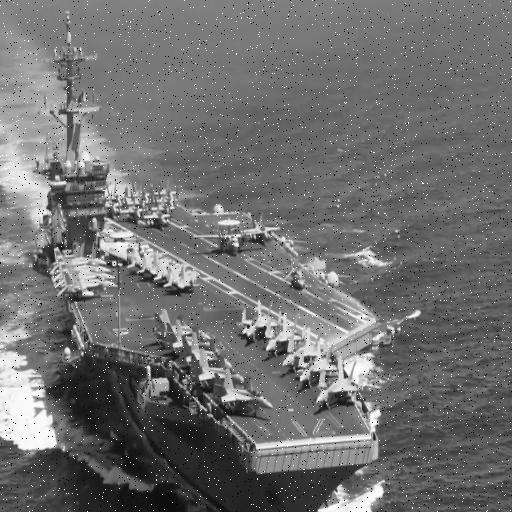Portanaves: (27, 7, 397, 512)
